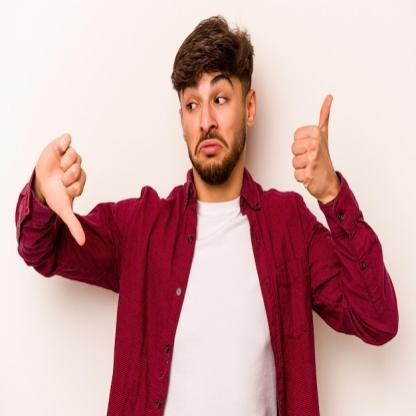thumb_down: (34, 130, 90, 248)
thumb_up: (289, 89, 335, 198)
